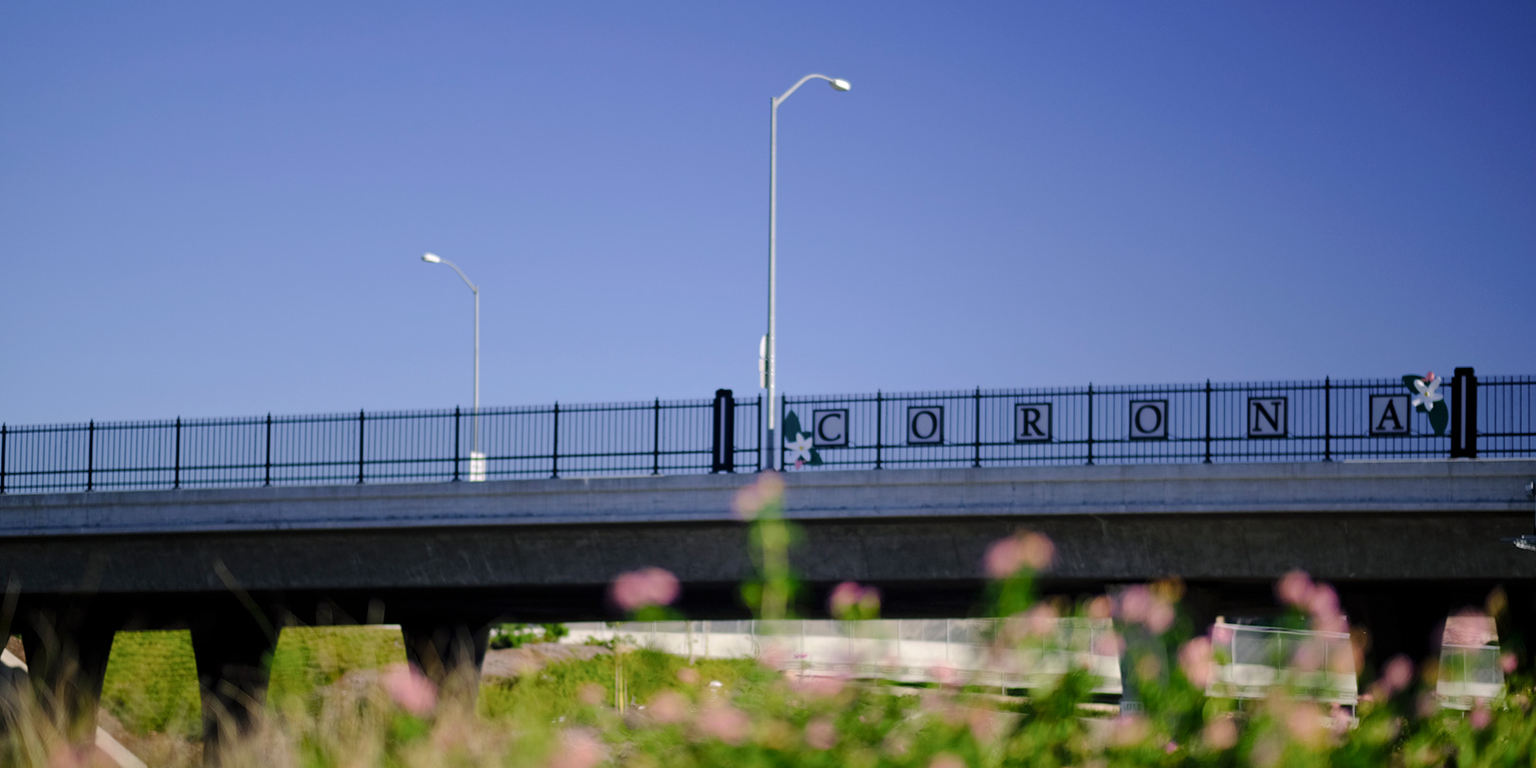Fence: (9, 380, 1536, 555)
